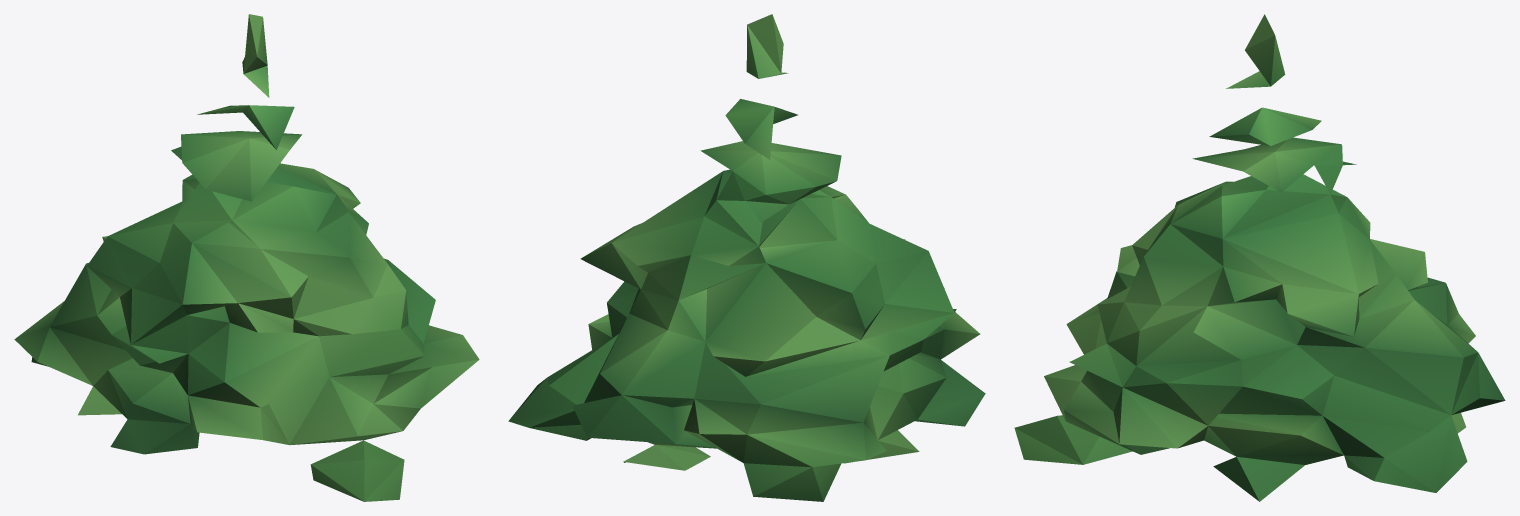
Rendered from pine_mature_full_base_far.glb.
3 renders of one model, left to right at view 1: azimuth 30°, elevation 25°; view 2: azimuth 150°, elevation 25°; view 3: azimuth 270°, elevation 25°, orthographic. The views are drawn at different scales.
Visible parts, largest first — view 1: pine_mature_full_base_LOD3; view 2: pine_mature_full_base_LOD3; view 3: pine_mature_full_base_LOD3.
Part boxes in pixels (box(x1,y1,x2,y2)): pine_mature_full_base_LOD3: box(14, 14, 479, 501); pine_mature_full_base_LOD3: box(508, 14, 985, 501); pine_mature_full_base_LOD3: box(1014, 14, 1505, 501).
Bounding box in the file's own units: 5.43 × 6.32 × 6.51.
